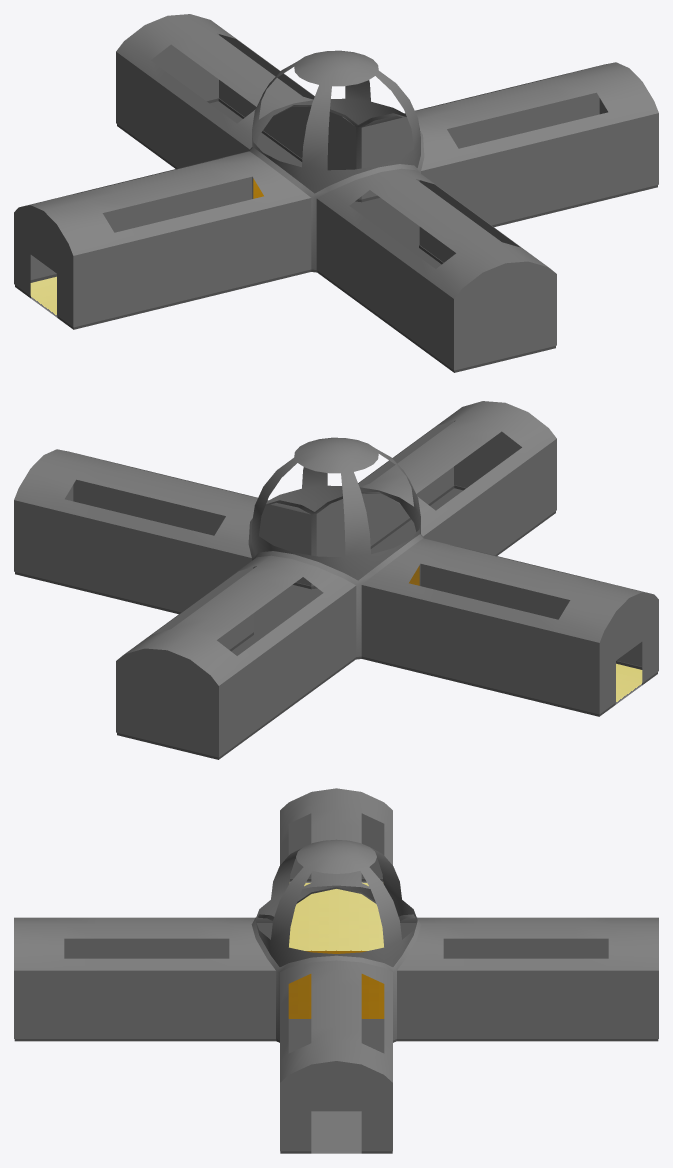
File: SM_Interior_Blockout.fbx
The picture shows the model from 3 angles, top to bottom: view 1: azimuth 30°, elevation 25°; view 2: azimuth 150°, elevation 25°; view 3: azimuth 270°, elevation 25°; orthographic projection. The views are drawn at different scales.
Visible parts, largest first — view 1: SM_Interior; view 2: SM_Interior; view 3: SM_Interior.
Part boxes in pixels (x1,y1,x2,y2): SM_Interior: [14, 14, 658, 372]; SM_Interior: [14, 401, 658, 759]; SM_Interior: [14, 788, 658, 1153].
Size of the model in its own units: 10160 by 2963 by 10160.
